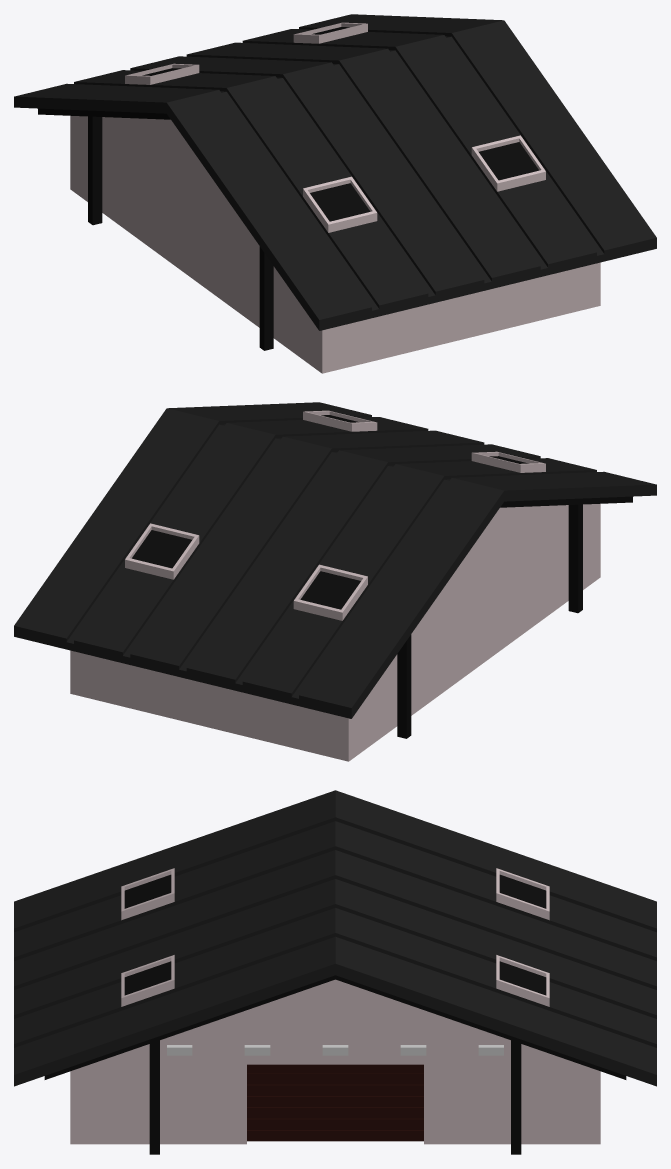
The model's file is warehouse.obj.
The picture shows the model from 3 angles, top to bottom: view 1: azimuth 30°, elevation 25°; view 2: azimuth 150°, elevation 25°; view 3: azimuth 270°, elevation 25°; orthographic projection. The views are drawn at different scales.
Parts seen in each view (by area): view 1: roof, body, roof.001, support; view 2: roof, body, roof.001, support; view 3: roof, body, roof.001, support, Cube.
Part boxes in pixels (x1=…): roof: x1=14, y1=14, x2=656, y2=330; body: x1=70, y1=115, x2=600, y2=373; roof.001: x1=125, y1=22, x2=545, y2=232; support: x1=38, y1=108, x2=273, y2=350; roof: x1=14, y1=402, x2=656, y2=718; body: x1=70, y1=503, x2=600, y2=761; roof.001: x1=125, y1=410, x2=545, y2=620; support: x1=397, y1=496, x2=632, y2=738; roof: x1=14, y1=790, x2=656, y2=1086; body: x1=70, y1=979, x2=600, y2=1144; roof.001: x1=121, y1=868, x2=549, y2=1006; support: x1=44, y1=975, x2=626, y2=1154; Cube: x1=167, y1=1045, x2=503, y2=1055.
Size of the model in its own units: 2.92 by 1.54 by 4.57.
